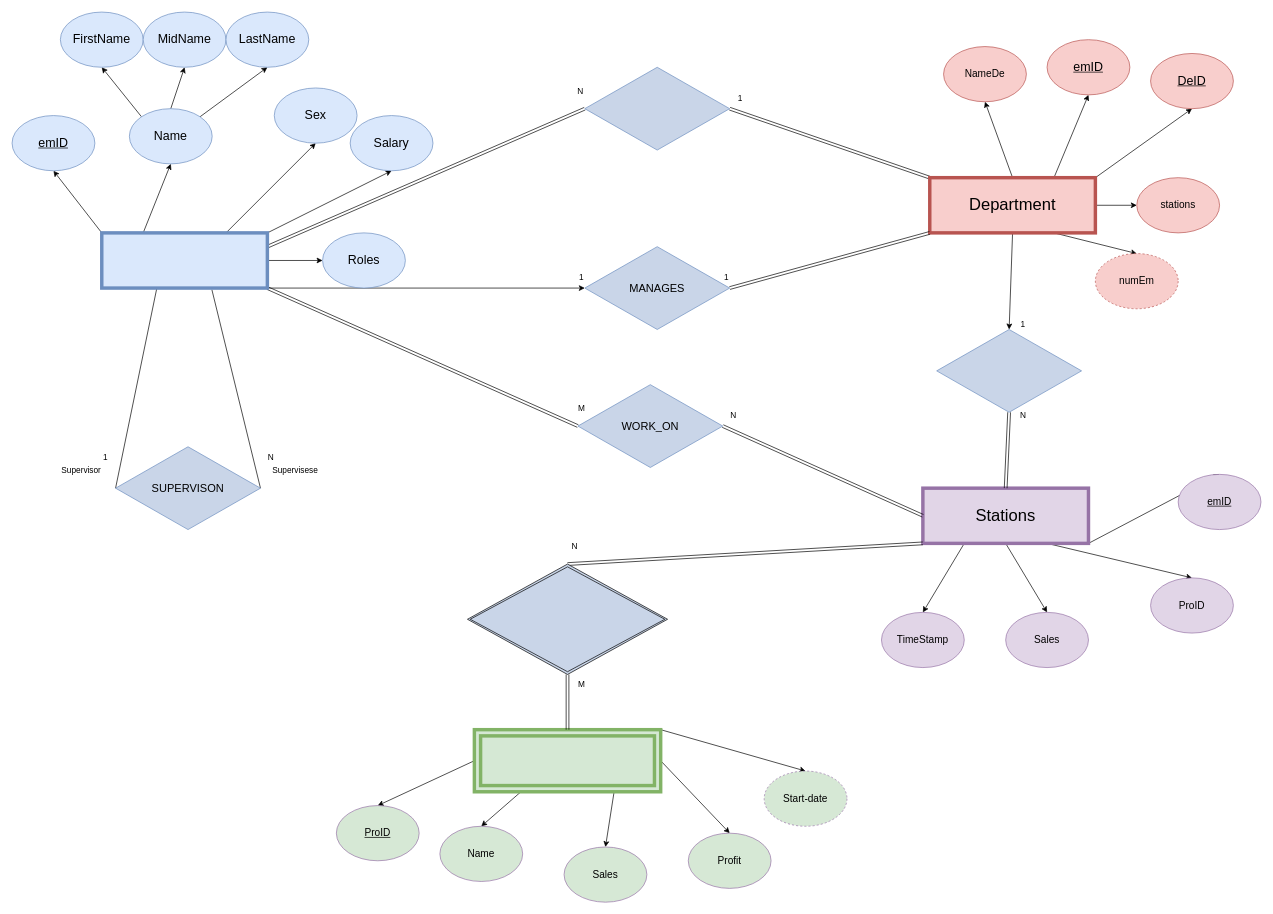
Some shapes in this 1273 by 914 pixel diagram are drawn without their labels. Here are the shapes that lost their labels. From the top down, the centre of each, then its label:
the point at 657,108: WORK_FOR
the point at 184,260: Employee
the point at 1009,370: CONTROLS
the point at 567,618: DEPENDENT_OF
the point at 567,760: Products
